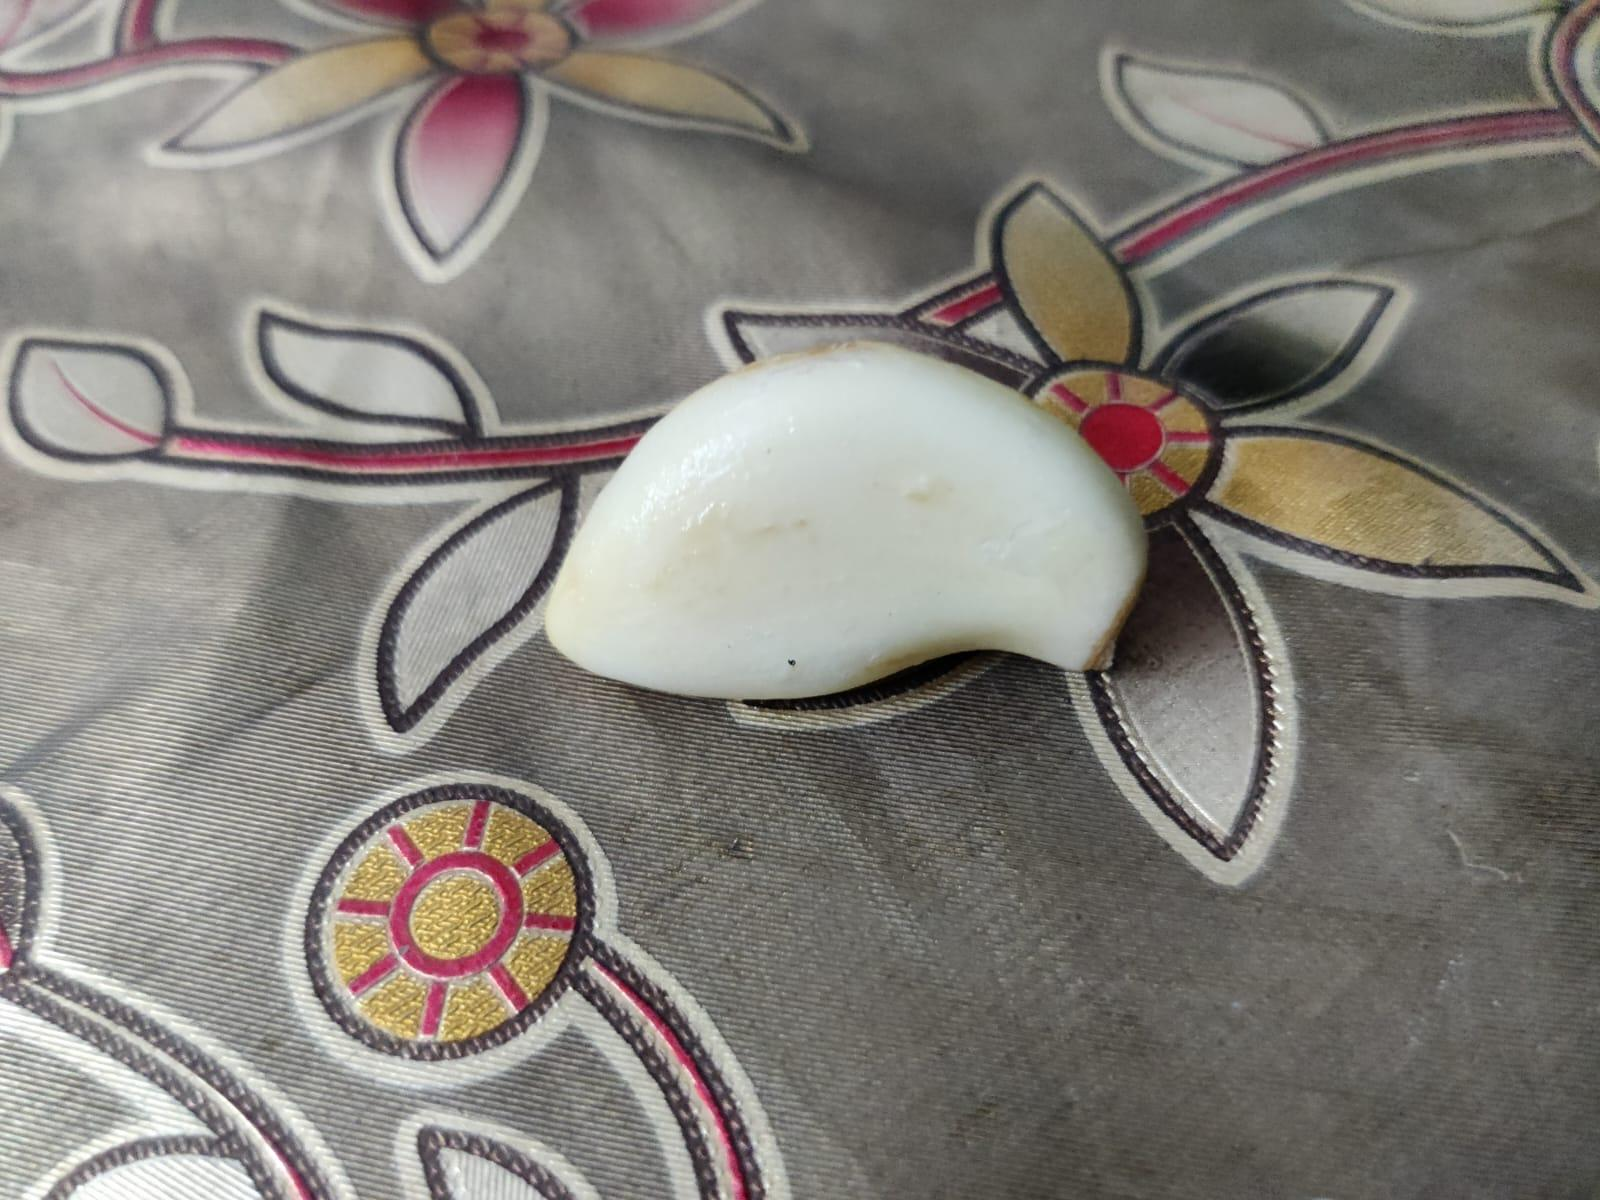non-mango: (533, 344, 1158, 705)
